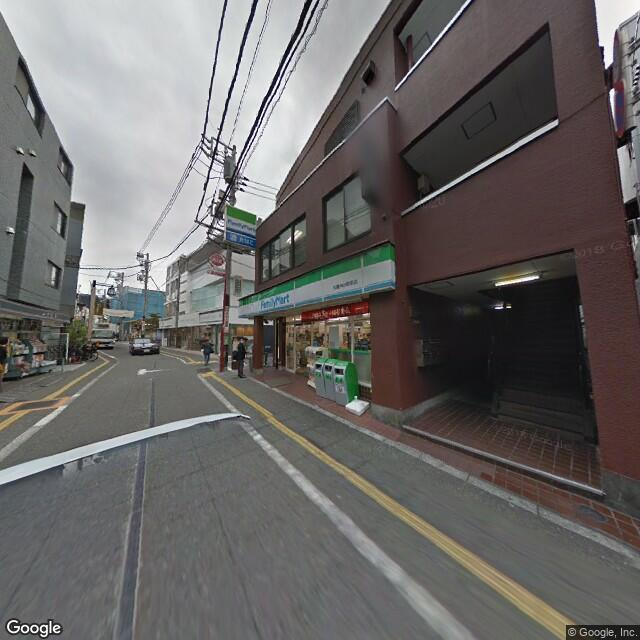family_mart: (235, 243, 396, 321), (223, 203, 258, 241)
